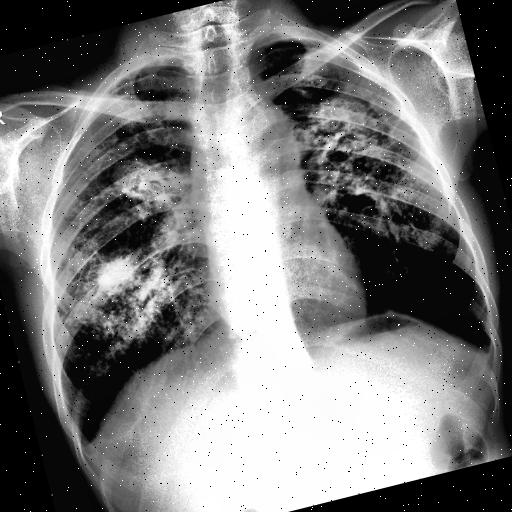11- Pleural thickening: (77, 436, 100, 459), (479, 342, 499, 362), (383, 300, 403, 318)
13- Pulmonary fibrosis: (286, 68, 428, 212), (286, 77, 422, 212), (50, 136, 148, 254)
4- Consolidation: (88, 254, 140, 290)
5- ILD: (26, 126, 222, 356), (286, 77, 422, 212), (59, 239, 190, 362)
6- Infiltration: (26, 126, 222, 356), (51, 230, 239, 402), (284, 62, 436, 216), (286, 68, 428, 212), (286, 77, 422, 212), (59, 239, 190, 362), (90, 139, 203, 236)
7- Lung Opacity: (51, 230, 239, 402), (284, 62, 436, 216), (90, 139, 203, 236)
8- Nodule-Mass: (305, 90, 368, 138), (104, 154, 154, 192), (92, 250, 137, 292), (94, 256, 136, 288)
